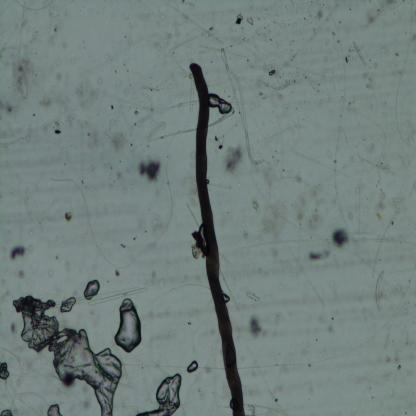Air bubble: (15, 291, 121, 414), (113, 298, 144, 353), (153, 372, 184, 414), (209, 92, 233, 116), (84, 278, 101, 300), (60, 296, 77, 311), (47, 402, 64, 415), (186, 360, 200, 374), (222, 291, 230, 304)
Background material: (43, 90, 102, 151), (288, 166, 330, 230), (268, 3, 301, 76), (252, 195, 288, 239), (6, 56, 42, 94), (366, 0, 395, 28), (42, 10, 62, 50), (134, 157, 162, 184), (187, 222, 205, 262), (256, 164, 285, 185), (223, 145, 244, 173), (273, 357, 301, 378), (244, 314, 264, 343), (109, 129, 130, 155), (331, 224, 351, 250), (302, 9, 324, 30), (305, 246, 332, 263), (264, 384, 283, 408), (8, 242, 29, 262), (148, 330, 176, 345), (382, 353, 402, 373), (232, 11, 254, 29), (266, 316, 284, 335), (148, 273, 169, 289), (0, 96, 16, 114), (0, 356, 11, 379), (0, 404, 13, 416), (54, 68, 64, 82), (16, 268, 26, 281), (8, 321, 18, 333), (329, 323, 336, 336), (62, 42, 70, 52), (47, 268, 54, 279), (108, 103, 114, 111)
Glass filter fibre: (47, 173, 118, 272), (122, 156, 175, 257), (219, 47, 262, 166), (395, 0, 416, 146), (334, 14, 345, 221), (286, 249, 325, 304), (372, 209, 400, 279), (358, 112, 390, 158), (85, 286, 148, 305), (133, 85, 156, 128), (40, 194, 74, 220), (171, 30, 212, 51), (0, 127, 31, 150), (261, 74, 295, 92), (16, 1, 27, 54), (374, 270, 385, 314), (351, 42, 368, 68), (17, 0, 53, 12), (376, 164, 396, 183), (147, 119, 164, 140), (303, 72, 319, 92), (188, 75, 195, 113), (246, 289, 260, 303), (382, 332, 392, 350), (24, 184, 30, 200)
Microfibre: (188, 61, 250, 416)
